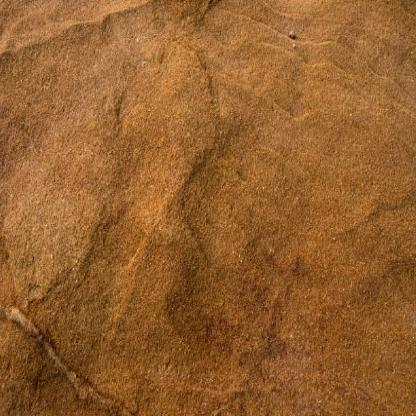Sedimentary_Sandstone: (1, 8, 412, 415)
